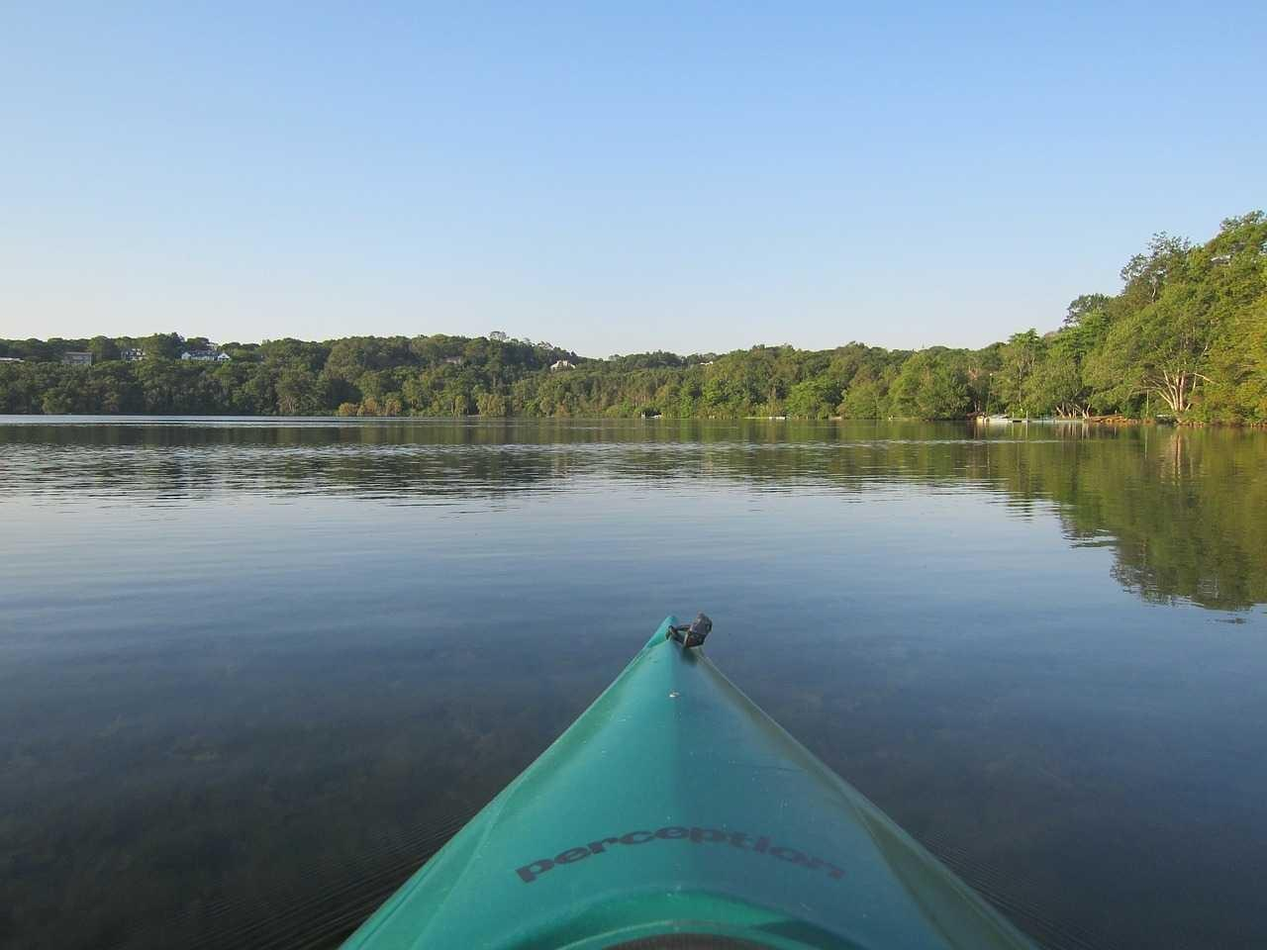kayak: (339, 610, 1038, 949)
